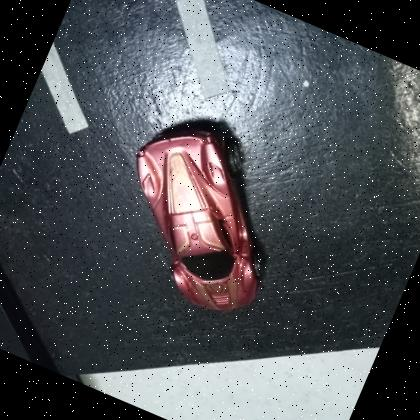Car: (90, 104, 312, 329)
